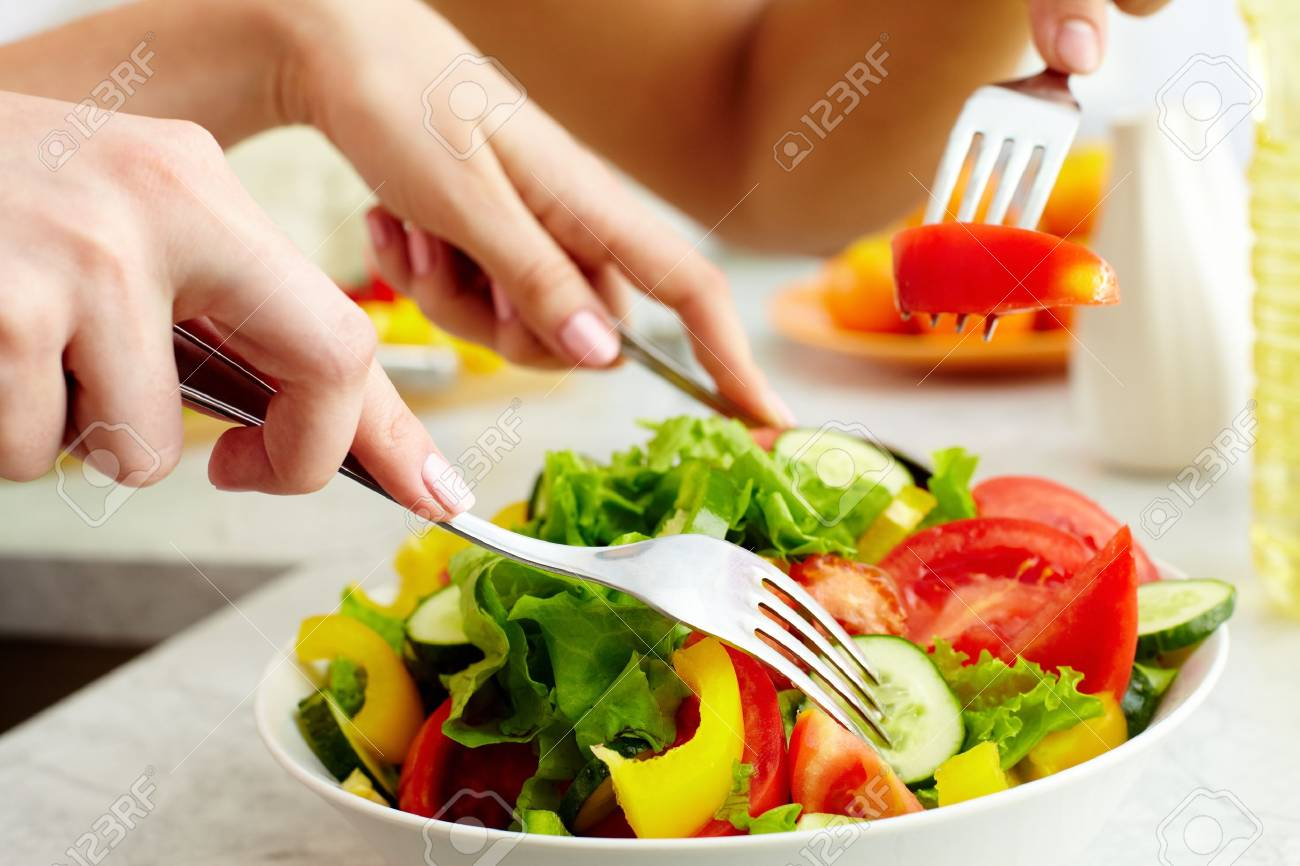finger: (233, 228, 485, 529), (624, 168, 802, 427), (193, 255, 367, 504), (67, 290, 190, 492), (1, 354, 64, 486)
